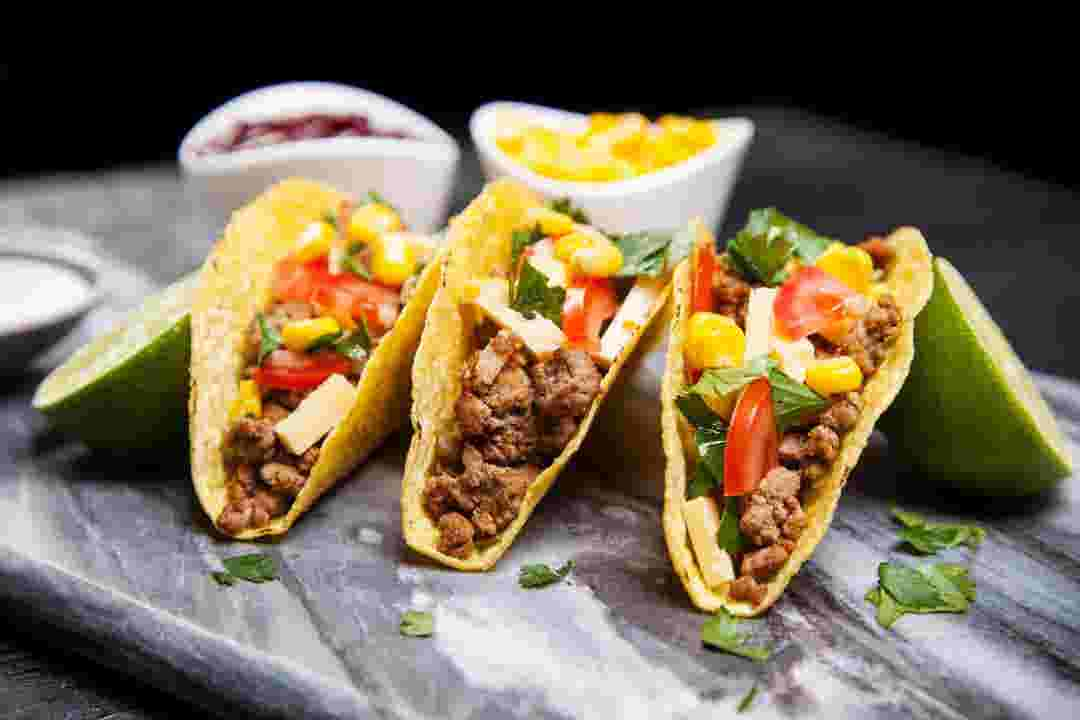ground_beef: (679, 205, 870, 591), (231, 208, 428, 498), (444, 219, 593, 512)
